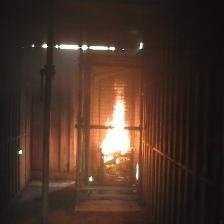fire: (100, 79, 135, 160)
